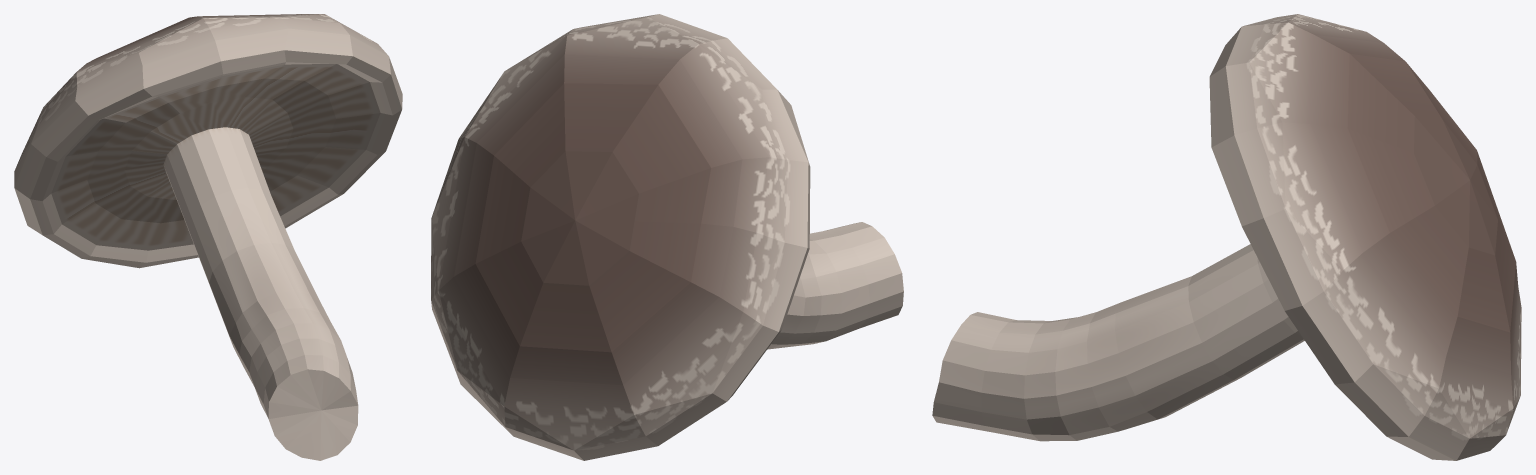
Rendered from shiitakeDetailed.fbx.
The picture shows the model from 3 angles, left to right: view 1: azimuth 30°, elevation 25°; view 2: azimuth 150°, elevation 25°; view 3: azimuth 270°, elevation 25°; orthographic projection. The views are drawn at different scales.
Parts seen in each view (by area): view 1: shiitakeDetailed; view 2: shiitakeDetailed; view 3: shiitakeDetailed.
Part boxes in pixels (box(x1,y1,x2,y2)): shiitakeDetailed: box(14, 14, 402, 460); shiitakeDetailed: box(431, 14, 903, 460); shiitakeDetailed: box(932, 14, 1521, 460).
Size of the model in its own units: 12.76 by 11.87 by 15.39.
